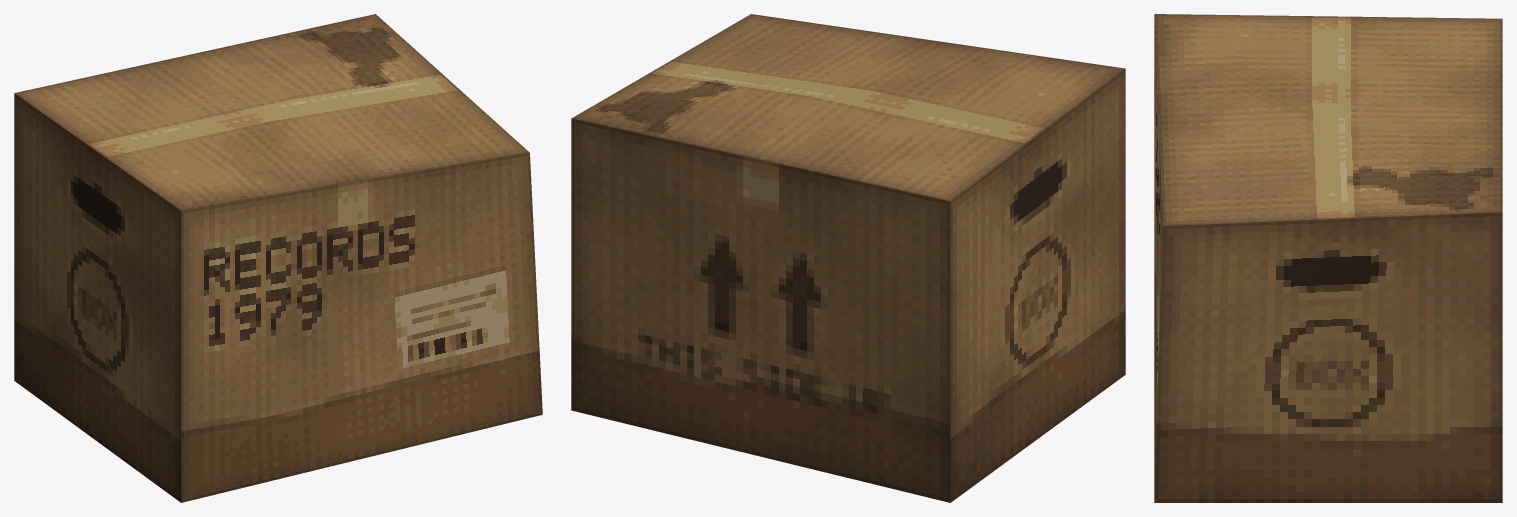
Rendered from cardboard_box.glb.
The picture shows the model from 3 angles, left to right: view 1: azimuth 30°, elevation 25°; view 2: azimuth 150°, elevation 25°; view 3: azimuth 270°, elevation 25°; orthographic projection. The views are drawn at different scales.
Visible parts, largest first — view 1: cardboard_box; view 2: cardboard_box; view 3: cardboard_box.
Part boxes in pixels (x1=…): cardboard_box: x1=14, y1=14, x2=542, y2=502; cardboard_box: x1=571, y1=14, x2=1125, y2=502; cardboard_box: x1=1154, y1=14, x2=1502, y2=502.
Size of the model in its own units: 0.5 by 0.386 by 0.4.
Materials: 1 (1 with a texture image).
